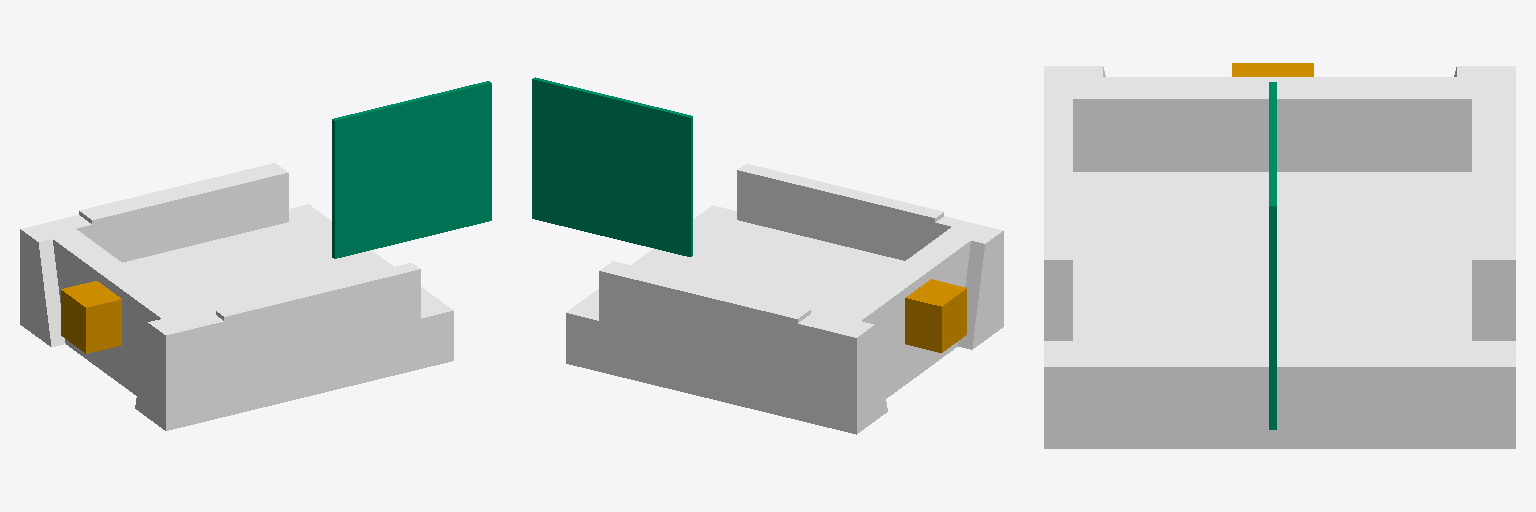
The robot description file, URDF, robot "conveyor_belt_dof2":
<?xml version="1.0"?>
<!-- =================================================================================== -->
<!-- |    This document was autogenerated by xacro from yaskawa7.urdf.xacro               | -->
<!-- |    EDITING THIS FILE BY HAND IS NOT RECOMMENDED                                 | -->
<!-- =================================================================================== -->
<robot name="conveyor_belt_dof2" xmlns:xacro="http://www.ros.org/wiki/xacro">
  <!-- Import Rviz colors -->


    <!-- LINKS -->
    <!-- virtual link interfacing with ee_mount on robot arm-->
    <link name="ee_base">
      <visual>
        <geometry>
          <box size="0.1 0.1 0.1"/>
        </geometry>
        <origin rpy="0 0 0" xyz="0 0 0"/>
      </visual>
    </link>

    <!-- links of cylinder base connected with the ee_base -->
    <link name="conveyor_belt_dof1_link">
      <visual>
        <material name="white">
          <color rgba="1.0 1.0 1.0 1.0"/>
        </material>
        <geometry>
          <mesh filename="../mesh/CBEE_v4_base_drake.obj" />
        </geometry>
        <origin rpy="0 0 0" xyz="0 0 0"/>
      </visual>
      <collision>
        <geometry>
          <mesh filename="../mesh/CBEE_v4_base_drake.obj" />
        </geometry>
        <origin rpy="0 0 0" xyz="0 0 0"/>
      </collision>
    </link>

    <!-- virtual link, equivlent of TCP (Tool Center Point) -->
    <link name="whisker_right_link">
      <visual>
        <geometry>
          <mesh filename="../mesh/CBEE_v4_whisker_drake.obj" />
        </geometry>
        <origin rpy="0 0 0" xyz="0 0 0"/>
      </visual>
      <collision>
        <geometry>
          <mesh filename="../mesh/CBEE_v4_whisker_drake.obj" />
        </geometry>
        <origin rpy="0 0 0" xyz="0 0 0"/>
      </collision>
    </link>

    <link name="whisker_left_link">
      <visual>
        <geometry>
          <mesh filename="../mesh/CBEE_v4_whisker_drake.obj" />
        </geometry>
        <origin rpy="0 0 0" xyz="0 0 0"/>
      </visual>
      <collision>
        <geometry>
          <mesh filename="../mesh/CBEE_v4_whisker_drake.obj" />
        </geometry>
        <origin rpy="0 0 0" xyz="0 0 0"/>
      </collision>
    </link>

    <!-- END LINKS -->

    <!-- JOINTS -->
    <!-- virtual joint, interfacing with arm -->
    <!-- <joint name="ee_base_joint" type="fixed">
      <parent link="ee_mount"/>
      <child link="ee_base"/>
      <origin xyz="0 0 0" rpy="0 0 0"/>
    </joint> -->

    <!-- virtual joint, connect ee_base to various link in end effector -->
    <joint name="conveyor_belt_dof1_joint" type="fixed">
      <parent link="ee_base"/>
      <child link="conveyor_belt_dof1_link"/>
      <origin xyz="0 0 0" rpy="0 0 0"/>
    </joint>

    <!-- virtual joint point to ee_tip_<number> (TCP) -->
    <joint name="whisker_right_joint" type="revolute">
      <parent link="conveyor_belt_dof1_link"/>
      <child link="whisker_right_link"/>
      <origin xyz="0.54 0 0" rpy="0 0 0"/>
    </joint>
    <!-- virtual joint point to ee_tip_<number> (TCP) -->
    <joint name="whisker_left_joint" type="revolute">
      <parent link="conveyor_belt_dof1_link"/>
      <child link="whisker_left_link"/>
      <origin xyz="0.54 0 0" rpy="0 0 0"/>
    </joint>
    <!-- END JOINTS -->

  <!--Extensions -->
  <!-- Load Gazebo lib and set the robot namespace -->
  <gazebo>
    <plugin filename="libgazebo_ros_control.so" name="gazebo_ros_controller">
      <robotNamespace>/yaskawa_ee</robotNamespace>
    </plugin>
  </gazebo>
  <!-- Link0 -->
  <gazebo reference="conveyor_belt_dof1_link">
    <material>Gazebo/Grey</material>
    <mu1>0.2</mu1>
    <mu2>0.2</mu2>
  </gazebo>
  <!-- Link0 -->
  <gazebo reference="whisker_right_link">
    <material>Gazebo/Grey</material>
    <mu1>0.2</mu1>
    <mu2>0.2</mu2>
  </gazebo>  
  <!-- Link0 -->
  <gazebo reference="whisker_left_link">
    <material>Gazebo/Grey</material>
    <mu1>0.2</mu1>
    <mu2>0.2</mu2>
  </gazebo>


 <transmission name="yaskawa_ee_1">
    <robotNamespace>/yaskawa</robotNamespace>
    <type>transmission_interface/SimpleTransmission</type>
    <joint name="whisker_right_joint">
      <hardwareInterface>PositionJointInterface</hardwareInterface>
    </joint>
    <actuator name="yaskawa_motor_1">
      <hardwareInterface>PositionJointInterface</hardwareInterface>
      <mechanicalReduction>1</mechanicalReduction>
    </actuator>
  </transmission>

  <transmission name="yaskawa_ee_2">
    <robotNamespace>/yaskawa</robotNamespace>
    <type>transmission_interface/SimpleTransmission</type>
    <joint name="whisker_left_joint">
      <hardwareInterface>PositionJointInterface</hardwareInterface>
    </joint>
    <actuator name="yaskawa_motor_2">
      <hardwareInterface>PositionJointInterface</hardwareInterface>
      <mechanicalReduction>1</mechanicalReduction>
    </actuator>
  </transmission>


  <!-- <transmission name="yaskawa_tran_1">
    <robotNamespace>/yaskawa</robotNamespace>
    <type>transmission_interface/SimpleTransmission</type>
    <joint name="ee_tip_0_joint">
      <hardwareInterface>PositionJointInterface</hardwareInterface>
    </joint>
    <actuator name="yaskawa_motor_1">
      <hardwareInterface>PositionJointInterface</hardwareInterface>
      <mechanicalReduction>1</mechanicalReduction>
    </actuator>
  </transmission> -->

</robot>

--- What the picture shows (computed from the rendered views, not written in the file) ---
3 views of the same robot in one strip: view 1: azimuth 30°, elevation 25°; view 2: azimuth 150°, elevation 25°; view 3: azimuth 270°, elevation 25° (orthographic).
Robot: conveyor_belt_dof2 — 4 links, 3 joints (2 revolute, 1 fixed); root link ee_base; default pose: every joint at zero.
Links seen in each view (by area): view 1: conveyor_belt_dof1_link, whisker_right_link, ee_base; view 2: conveyor_belt_dof1_link, whisker_right_link, ee_base; view 3: conveyor_belt_dof1_link, whisker_right_link, ee_base.
Link boxes in pixels (left/top/right/bottom): conveyor_belt_dof1_link: left=20, top=163, right=453, bottom=430; whisker_right_link: left=332, top=81, right=491, bottom=258; ee_base: left=61, top=281, right=121, bottom=353; conveyor_belt_dof1_link: left=566, top=164, right=1003, bottom=434; whisker_right_link: left=532, top=77, right=692, bottom=256; ee_base: left=905, top=279, right=966, bottom=352; conveyor_belt_dof1_link: left=1044, top=66, right=1515, bottom=448; whisker_right_link: left=1269, top=82, right=1276, bottom=429; ee_base: left=1232, top=63, right=1313, bottom=76.
Size in the robot's own frame: 0.946 by 0.5717 by 0.4375 metres.
3 mesh visuals loaded from 2 distinct referenced files (2 OBJ).